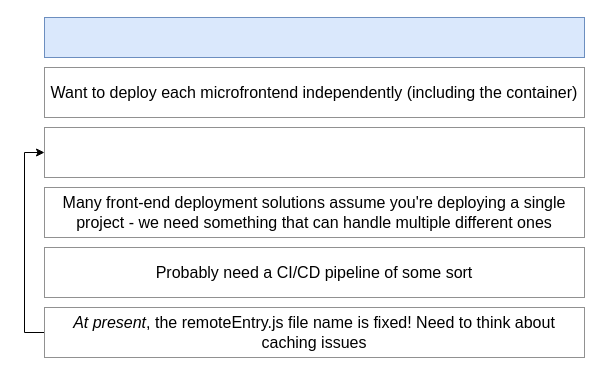
This 602x375 diagram has some shape labels left out. Here are the shapes that lost their labels. From the top down, the centre of each, then its label:
At point (314, 37): "Deployment".
At point (314, 152): "Location of child app remoteEntry.js files must be known at build time !".
